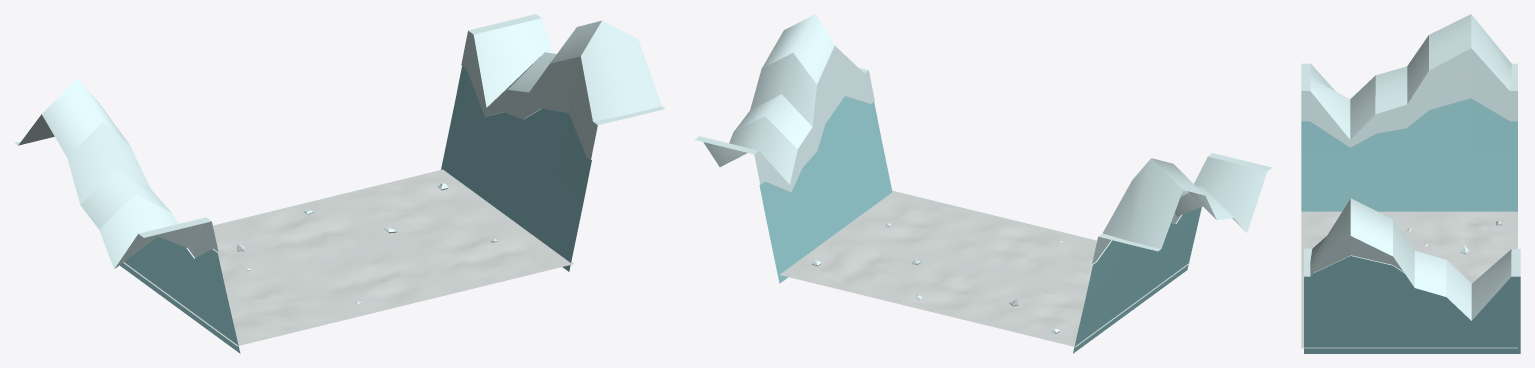
File: Snow.fbx
3 renders of one model, left to right at view 1: azimuth 30°, elevation 25°; view 2: azimuth 150°, elevation 25°; view 3: azimuth 270°, elevation 25°, orthographic. The views are drawn at different scales.
Parts seen in each view (by area): view 1: Mountain:Mountain:pCube2; view 2: Mountain:Mountain:pCube2; view 3: Mountain:Mountain:pCube2.
Part boxes in pixels (x1,y1,x2,y2): Mountain:Mountain:pCube2: [15, 14, 664, 353]; Mountain:Mountain:pCube2: [694, 14, 1271, 353]; Mountain:Mountain:pCube2: [1301, 14, 1520, 353].
Bounding box in the file's own units: 112 × 44.13 × 48.63.
